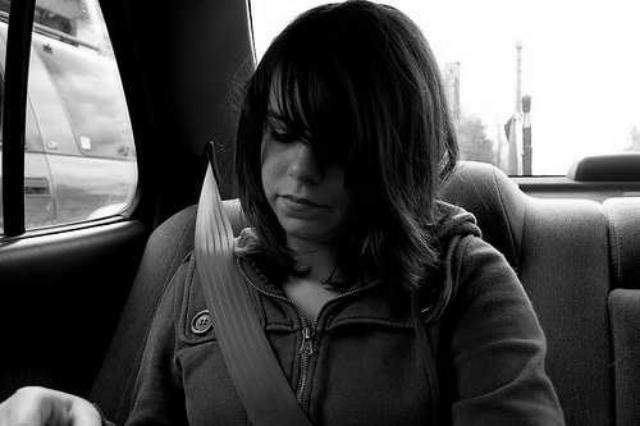Seatbelt: (189, 154, 317, 426)
